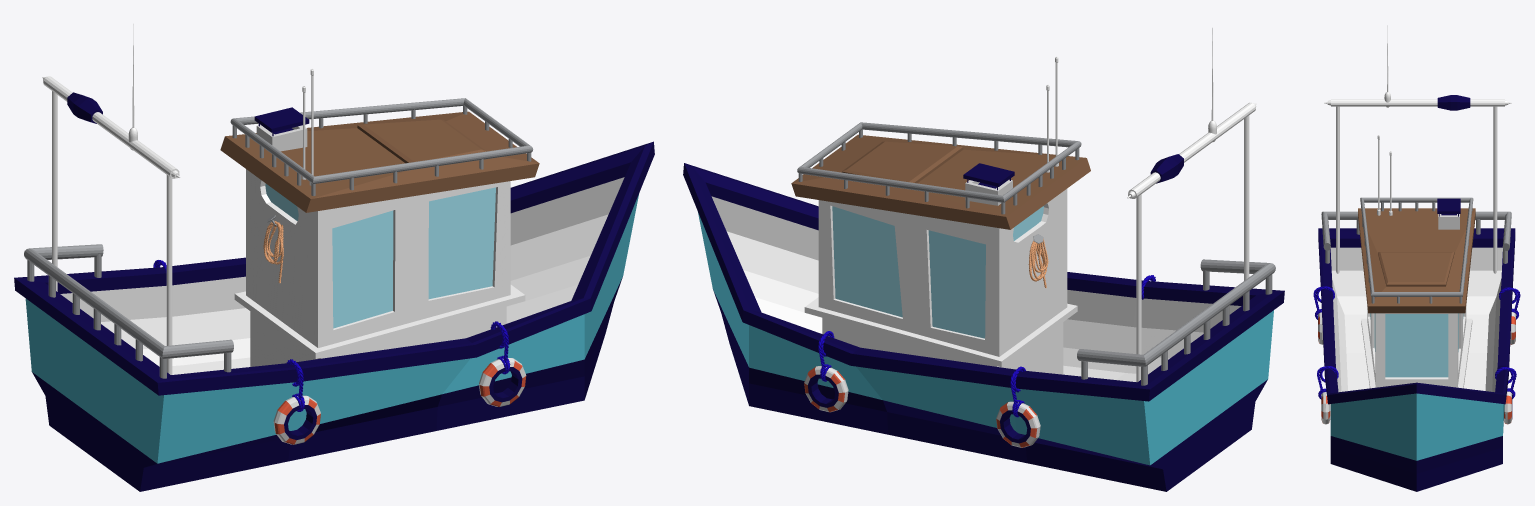
Rendered from boat2.0.fbx.
3 views of the same model, side by side, from view 1: azimuth 30°, elevation 25°; view 2: azimuth 150°, elevation 25°; view 3: azimuth 270°, elevation 25° (orthographic). The views are drawn at different scales.
Parts seen in each view (by area): view 1: BOAT2.0; view 2: BOAT2.0; view 3: BOAT2.0.
Part boxes in pixels (box(x1,y1,x2,y2)): BOAT2.0: box(14, 24, 654, 491); BOAT2.0: box(683, 28, 1284, 491); BOAT2.0: box(1313, 25, 1520, 491).
Bounding box in the file's own units: 7.11 × 5.44 × 3.27.
